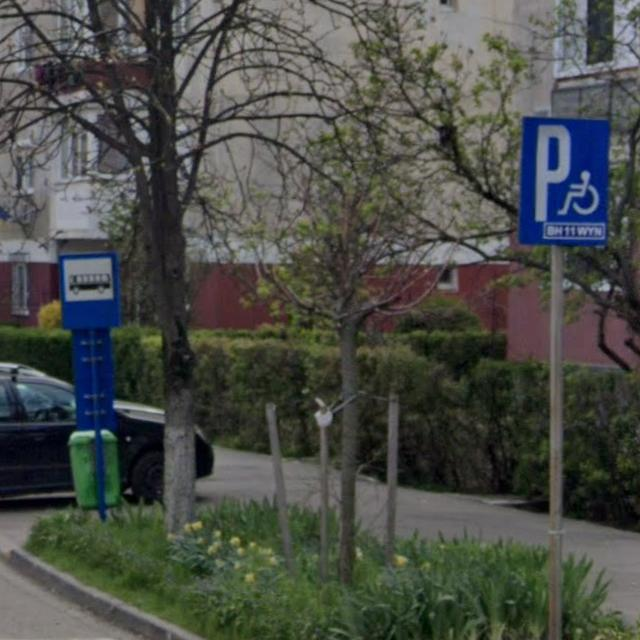info_bus_station: (60, 250, 122, 328)
info_parking: (518, 116, 610, 246)
